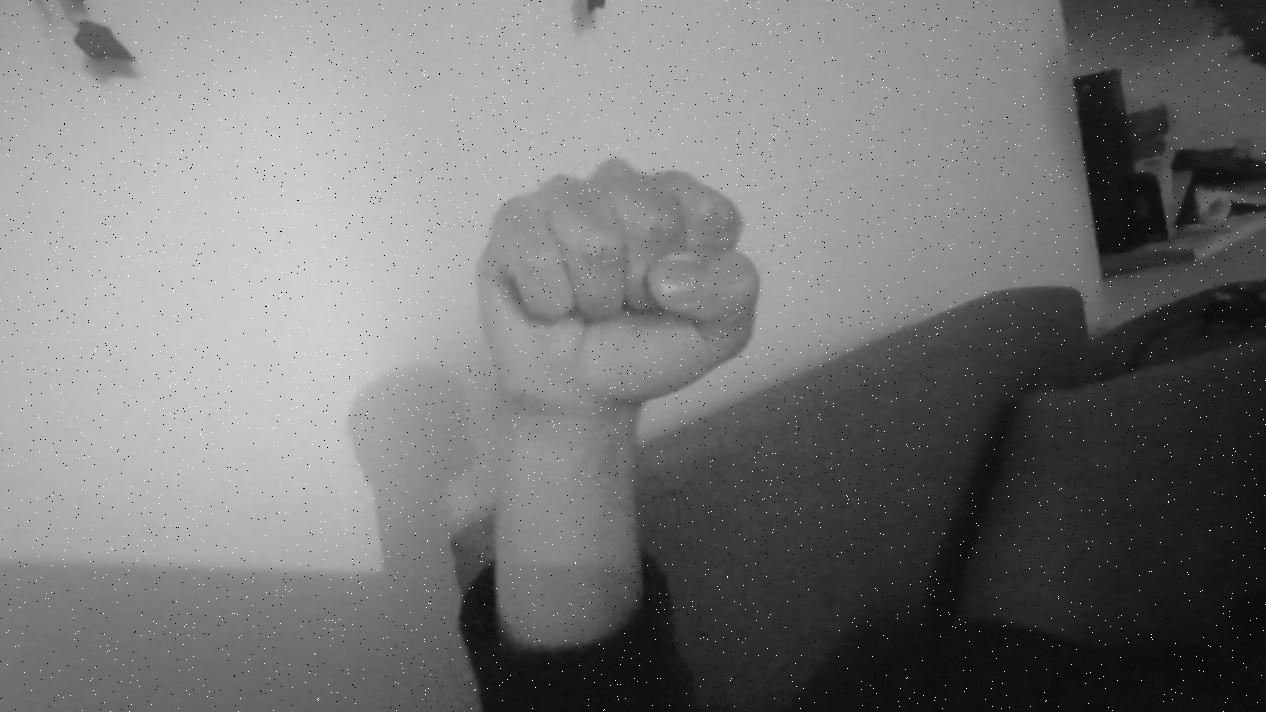stop: (448, 133, 781, 442)
